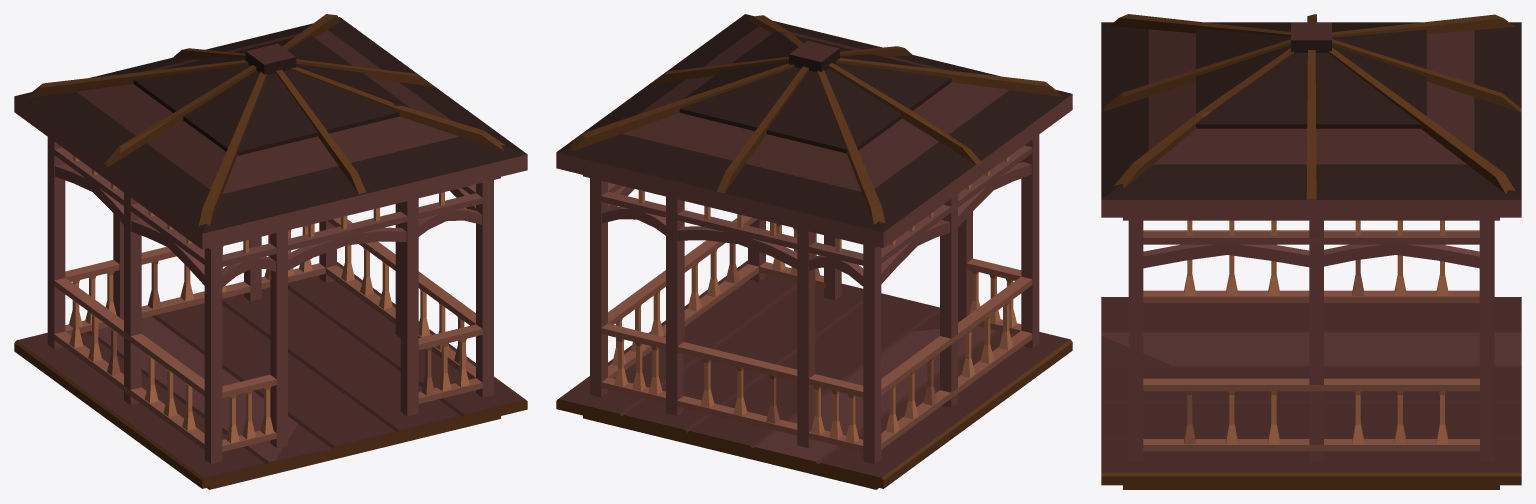
File: Gazebo.fbx
The picture shows the model from 3 angles, left to right: view 1: azimuth 30°, elevation 25°; view 2: azimuth 150°, elevation 25°; view 3: azimuth 270°, elevation 25°; orthographic projection. The views are drawn at different scales.
Parts seen in each view (by area): view 1: Gazebo; view 2: Gazebo; view 3: Gazebo.
Boxes of the visible parts, x1,y1,x2,y2 form: Gazebo: (14,14,527,489); Gazebo: (556,14,1072,489); Gazebo: (1101,14,1521,489).
Size of the model in its own units: 293 by 290 by 292.
